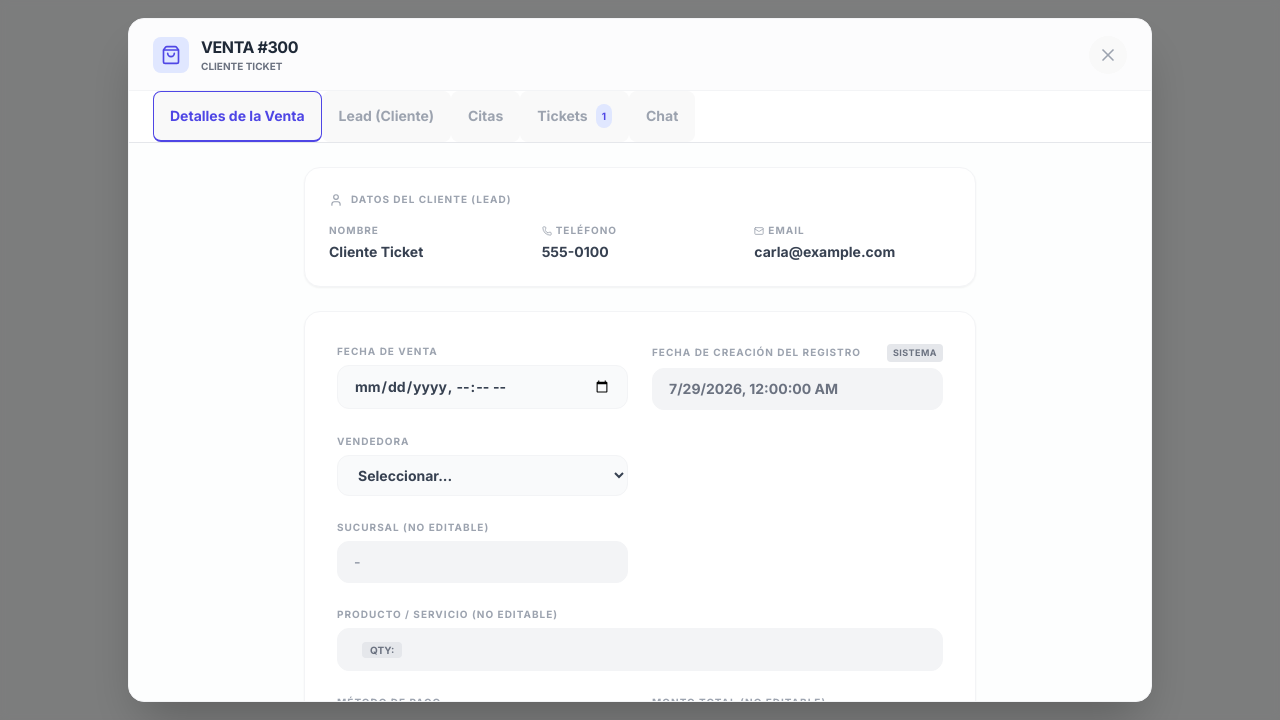
Test: SaleModal — ticket assignment (shared authority) › surfaces a rejected assignment instead of silently discarding it
The image size is (1280, 720).
Click the button "Tickets 1". click: (575, 116)
box: [520,91,629,142]
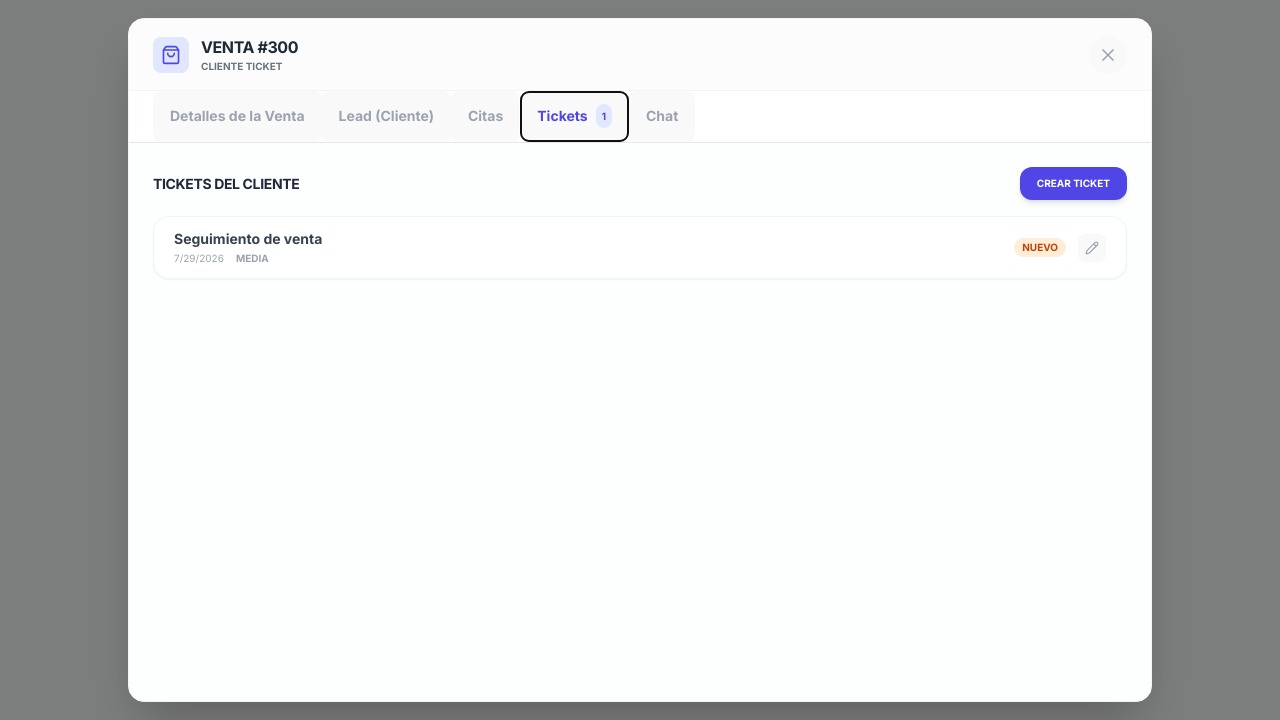
Click the button titled "Editar ticket". click: (1092, 248)
box: [1078,234,1106,262]
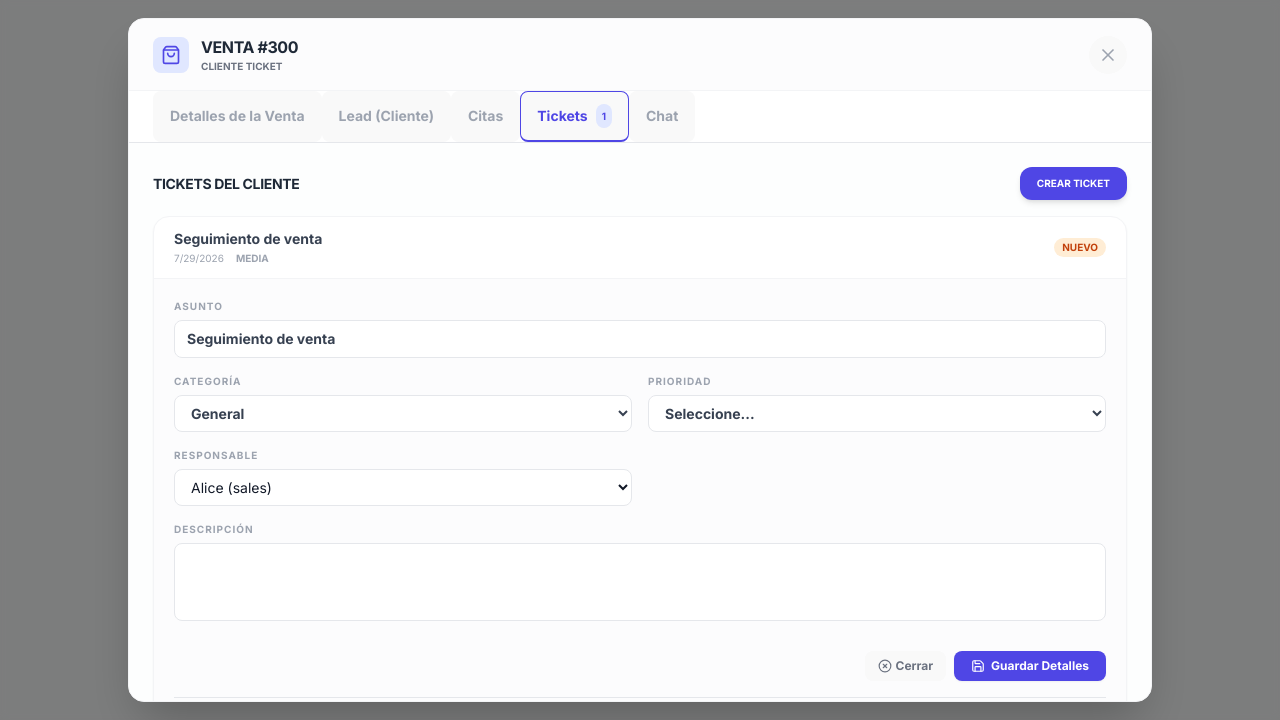
Select "Bruno (sales)" in the dropdown with test id "ticket-assignment-select". click: (403, 488)
box: [174,469,632,506]
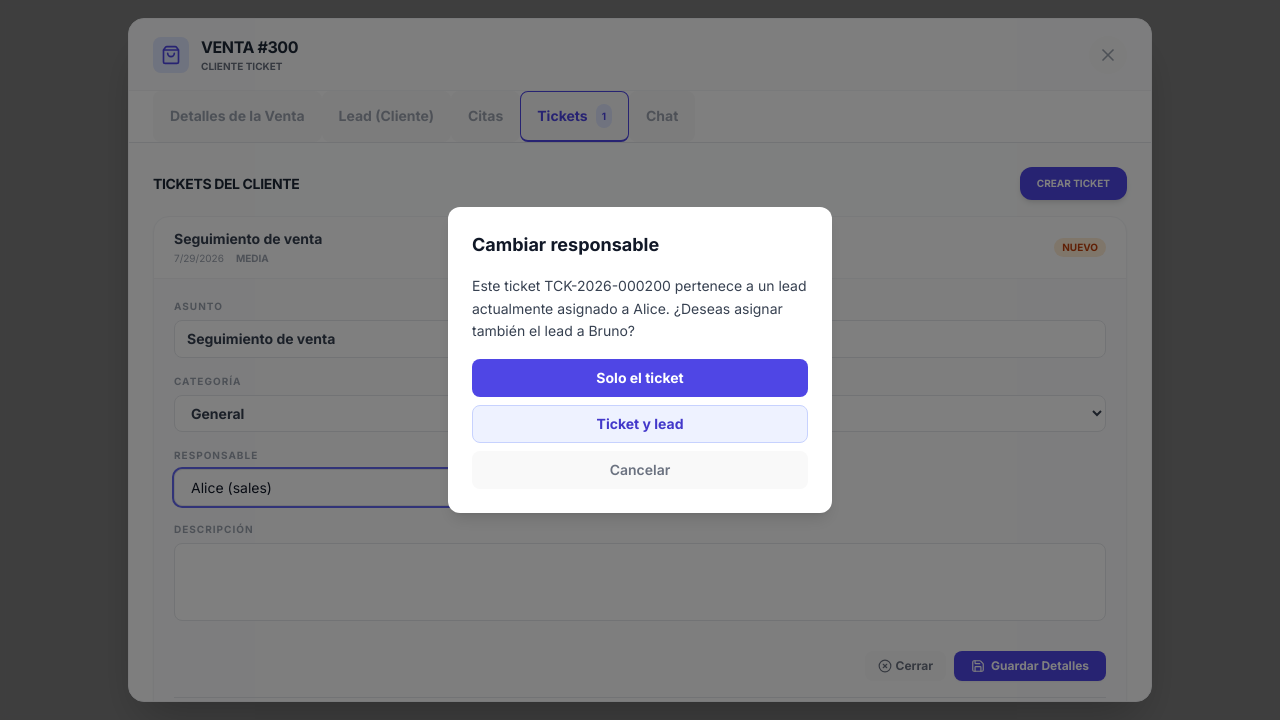
Click the button with test id "assignment-dialog-ticket-only". click: (640, 378)
box: [472,359,808,397]
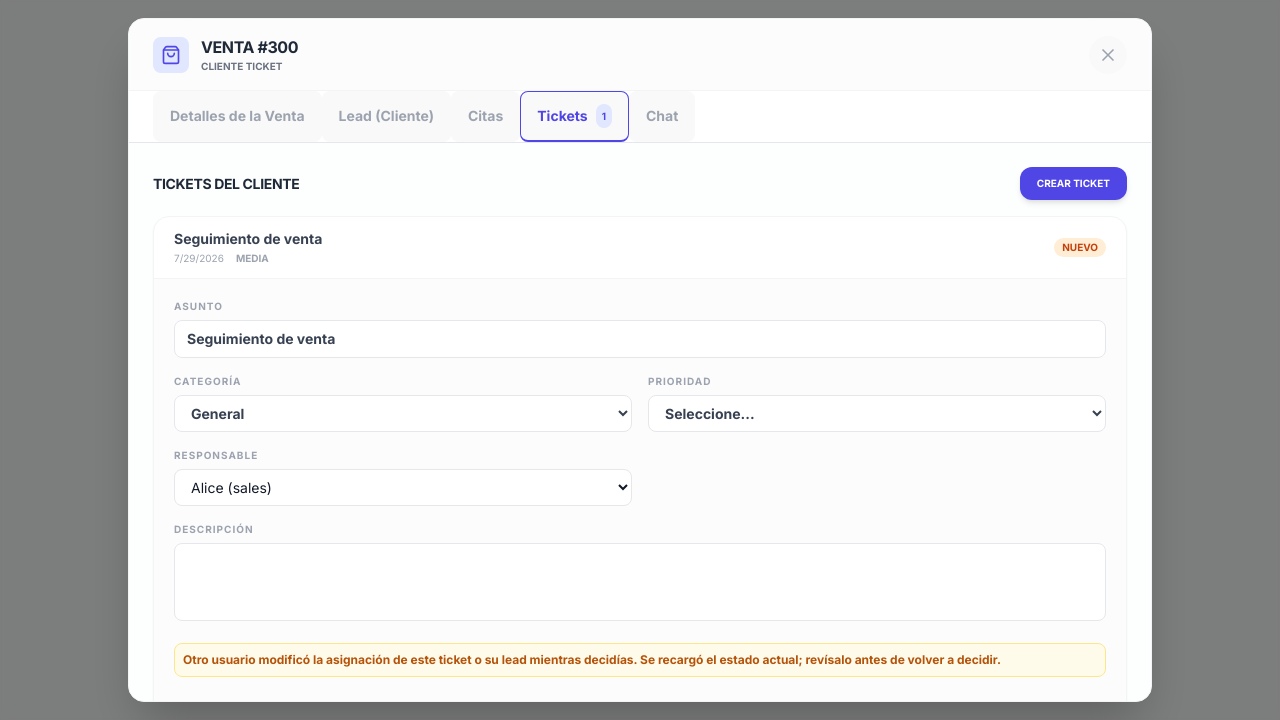
Expected: the message with test id "assignment-error" is shown, [174,643,1106,677]
